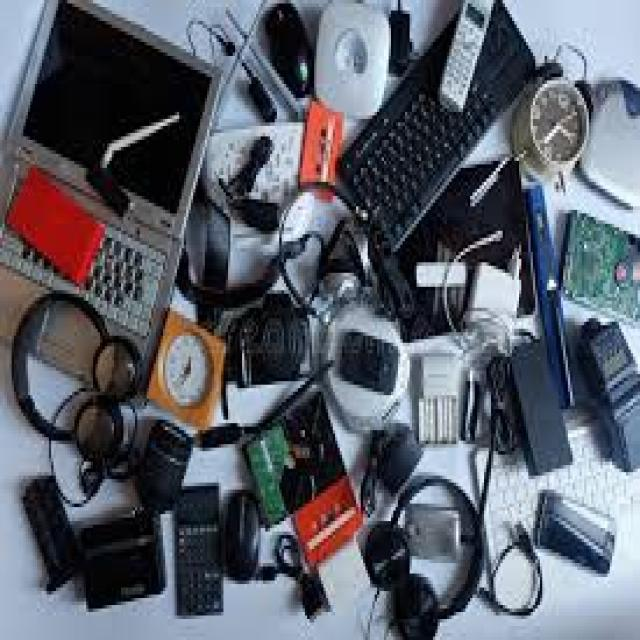Hazard: (9, 0, 640, 629)
